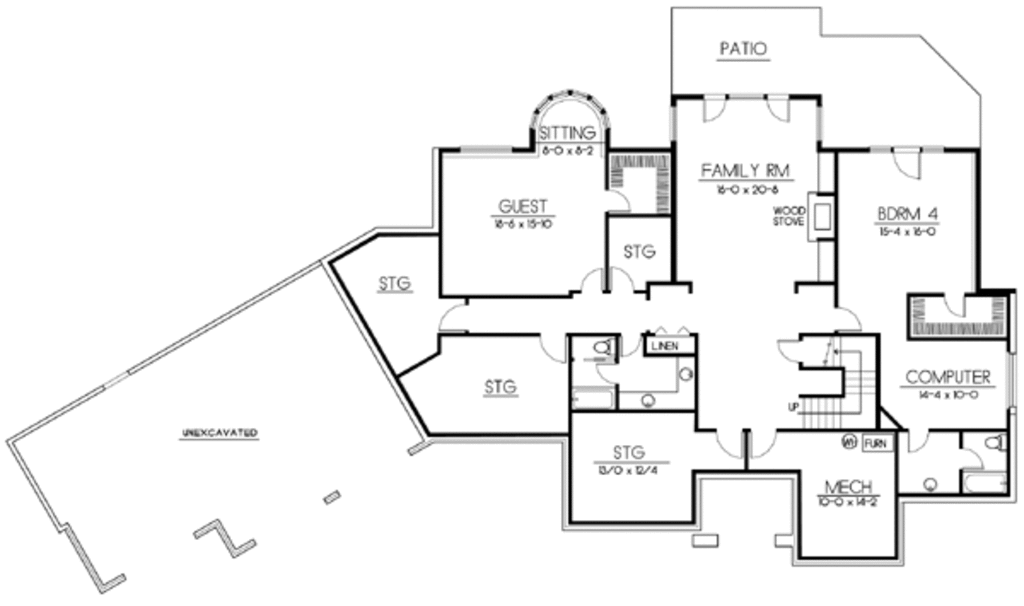door: (436, 289, 470, 334), (760, 87, 796, 128), (888, 141, 924, 179), (899, 423, 935, 457), (699, 87, 729, 125), (606, 260, 636, 297), (750, 424, 779, 461), (534, 326, 564, 361), (775, 333, 807, 365), (939, 288, 970, 320), (834, 300, 866, 330), (580, 264, 606, 300), (603, 186, 634, 214), (716, 427, 742, 459), (589, 358, 619, 385), (620, 330, 645, 358), (957, 446, 985, 470)
large_sink: (583, 329, 619, 355), (987, 429, 1011, 454)
small_sink: (634, 389, 666, 409), (678, 361, 700, 388), (920, 477, 943, 498)
tub: (960, 466, 1008, 498), (568, 383, 618, 412)
window: (449, 141, 517, 160)
